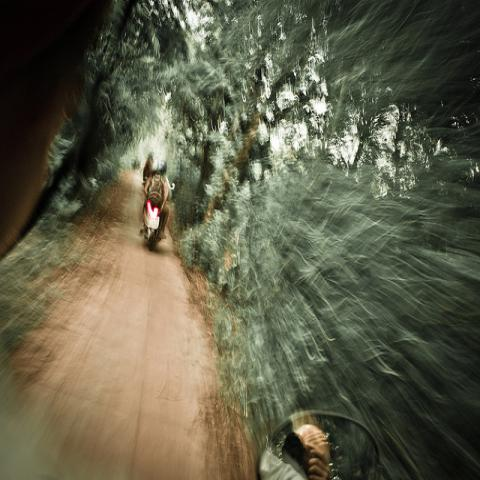motorcycle: (139, 194, 170, 250)
